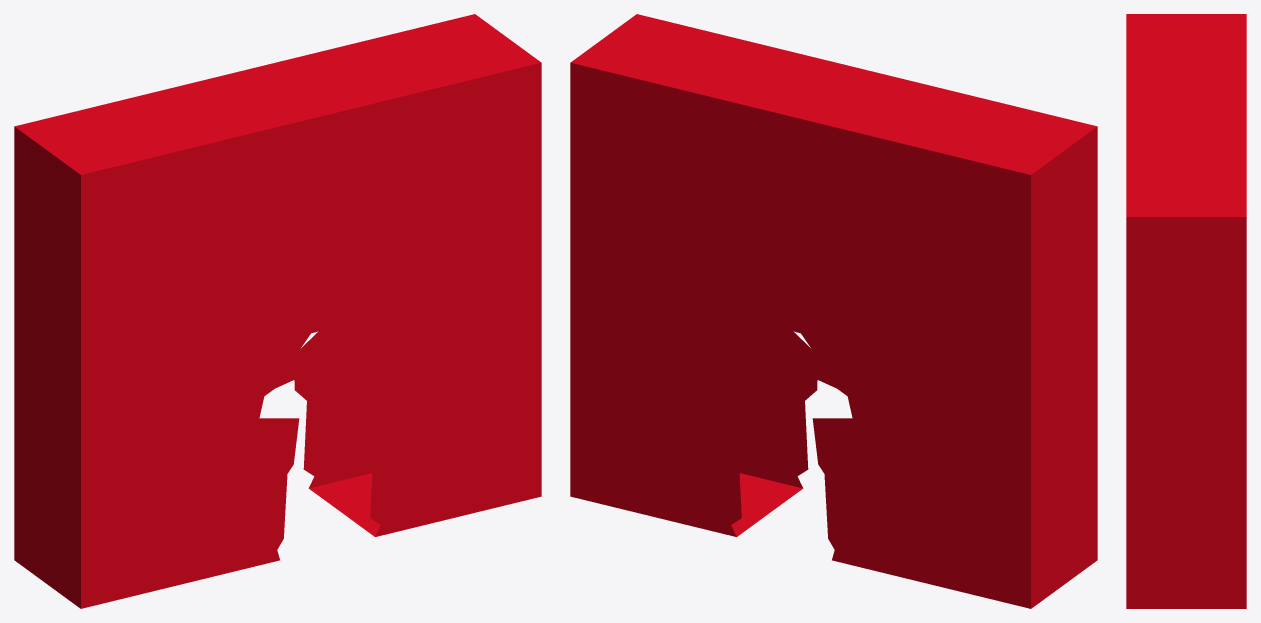
The picture shows the model from 3 angles, left to right: view 1: azimuth 30°, elevation 25°; view 2: azimuth 150°, elevation 25°; view 3: azimuth 270°, elevation 25°; orthographic projection. The views are drawn at different scales.
Visible parts, largest first — view 1: Cube.003; view 2: Cube.003; view 3: Cube.003.
Boxes of the visible parts, x1=… form: Cube.003: x1=14, y1=14, x2=541, y2=608; Cube.003: x1=570, y1=14, x2=1097, y2=608; Cube.003: x1=1126, y1=14, x2=1246, y2=608.
Bounding box in the file's own units: 2 × 1.8 × 0.5.
